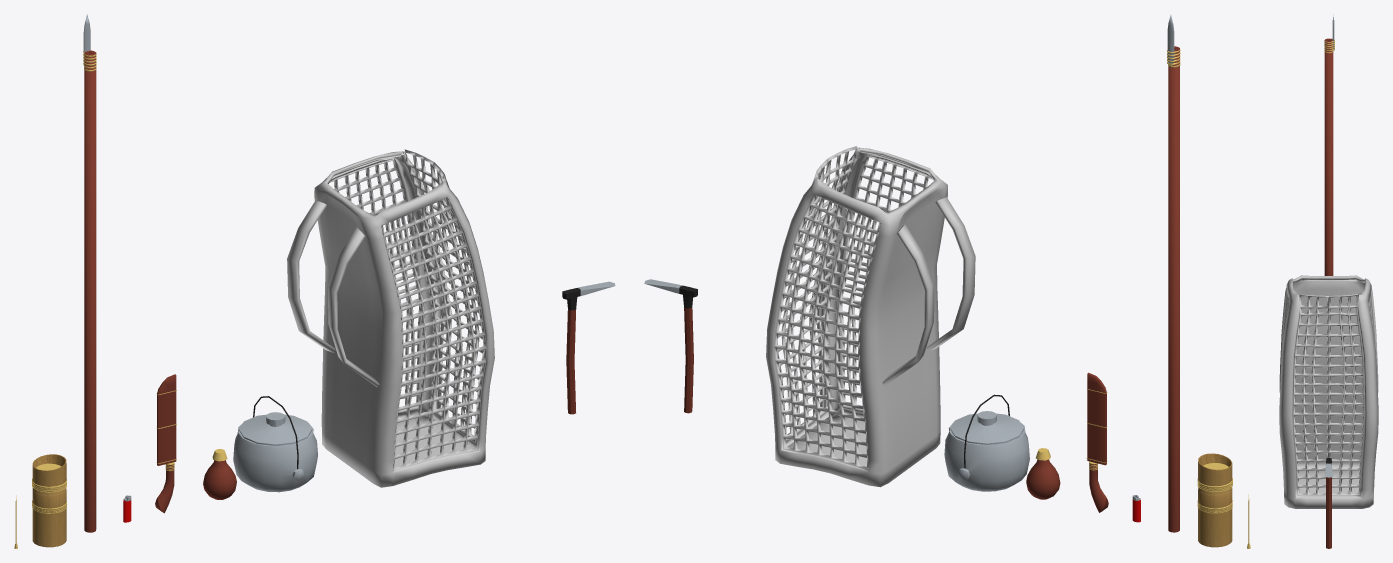
The picture shows the model from 3 angles, left to right: view 1: azimuth 30°, elevation 25°; view 2: azimuth 150°, elevation 25°; view 3: azimuth 270°, elevation 25°; orthographic projection. The views are drawn at different scales.
Visible parts, largest first — view 1: backpack_frame, backpack_left_right, blowpipe, backpack_front, cooking_pot, blowdart_container_bottom, cooking_pot_lid, Perang_holder, axe, blowdart_container_top, Water_container; view 2: backpack_frame, backpack_left_right, blowpipe, backpack_front, cooking_pot, blowdart_container_bottom, cooking_pot_lid, Perang_holder, axe, blowdart_container_top, Water_container; view 3: backpack_frame, backpack_front, blowpipe, axe, backpack_left_right.
Part boxes in pixels (x1,y1,x2,y2): backpack_frame: [287, 151, 494, 487]; backpack_left_right: [329, 159, 486, 470]; blowpipe: [83, 14, 96, 532]; backpack_front: [402, 149, 483, 440]; cooking_pot: [233, 422, 317, 492]; blowdart_container_bottom: [32, 488, 66, 547]; cooking_pot_lid: [239, 412, 311, 445]; Perang_holder: [156, 374, 176, 465]; axe: [562, 281, 615, 414]; blowdart_container_top: [32, 454, 66, 492]; Water_container: [203, 460, 236, 499]; backpack_frame: [766, 147, 975, 487]; backpack_left_right: [774, 155, 932, 470]; blowpipe: [1167, 14, 1180, 532]; backpack_front: [777, 146, 859, 439]; cooking_pot: [944, 421, 1029, 491]; blowdart_container_bottom: [1197, 487, 1232, 547]; cooking_pot_lid: [950, 411, 1023, 444]; Perang_holder: [1086, 372, 1107, 465]; axe: [644, 279, 697, 413]; blowdart_container_top: [1197, 453, 1232, 492]; Water_container: [1026, 459, 1060, 499]; backpack_frame: [1279, 275, 1378, 508]; backpack_front: [1293, 294, 1364, 495]; blowpipe: [1324, 14, 1334, 275]; axe: [1324, 458, 1333, 548]; backpack_left_right: [1282, 291, 1375, 343].
Size of the model in its own units: 162 by 133 by 32.68.
